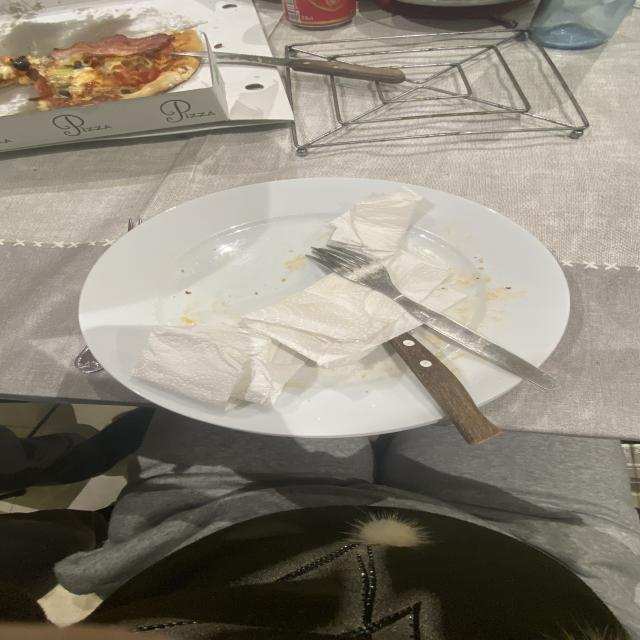fork: (309, 244, 556, 389)
garbage: (131, 273, 420, 410), (330, 187, 466, 311)
knife: (390, 333, 501, 444)
plate: (79, 178, 570, 437)
